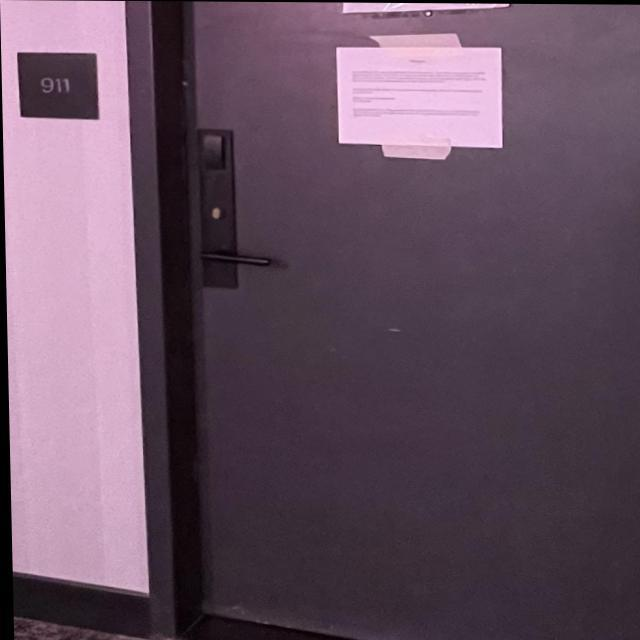door_handle: (189, 241, 291, 282)
